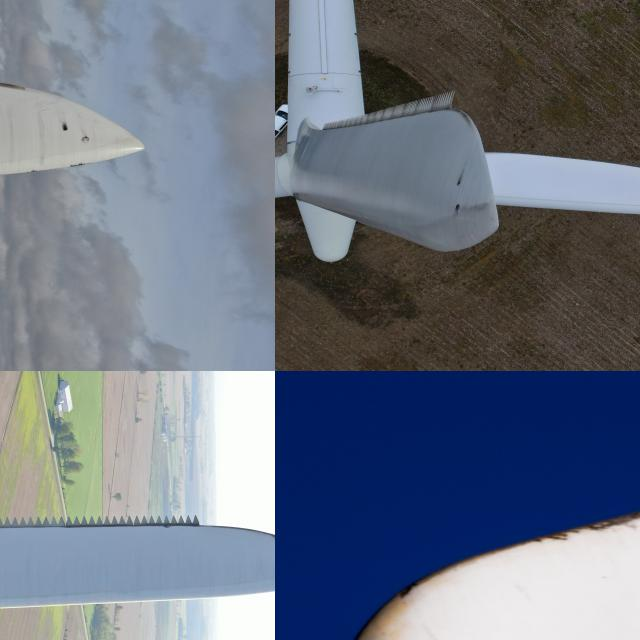damage: (68, 158, 93, 170), (452, 174, 468, 187), (21, 165, 43, 173), (57, 121, 72, 131)
